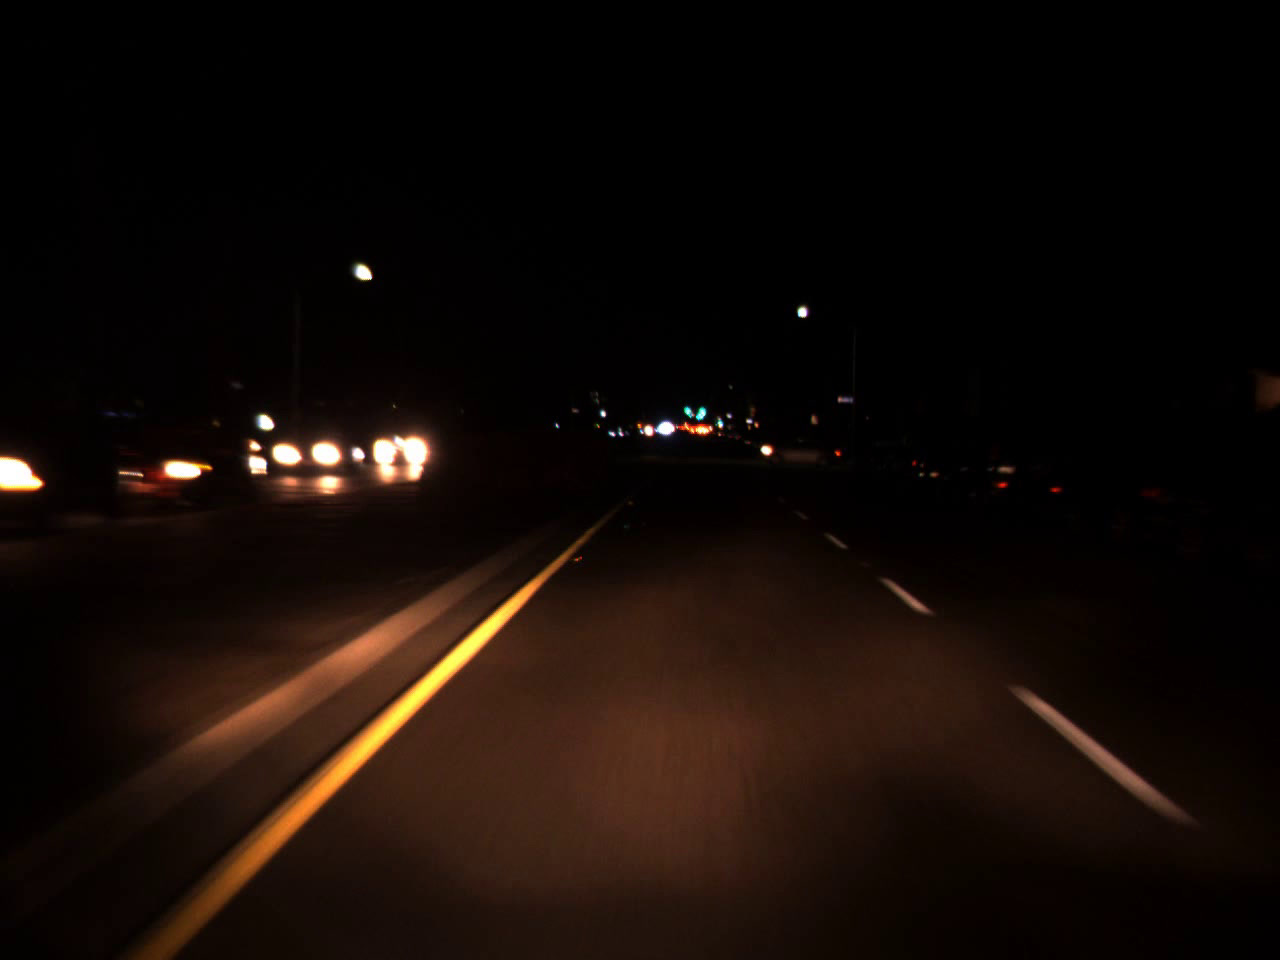go: (691, 390, 709, 426), (681, 397, 690, 418), (716, 413, 723, 425)
